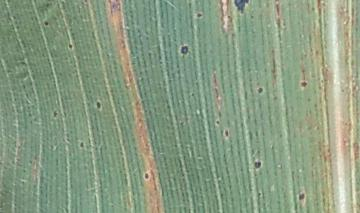tarspot: (233, 1, 249, 15), (252, 159, 263, 171), (179, 45, 189, 57), (95, 98, 103, 112), (296, 190, 306, 201), (222, 127, 230, 139), (52, 107, 59, 120), (299, 79, 308, 89), (143, 170, 150, 182), (256, 86, 265, 95), (214, 118, 222, 127), (195, 12, 203, 20), (67, 41, 74, 50), (42, 19, 49, 27), (189, 91, 195, 97), (78, 141, 83, 148), (82, 1, 89, 4)
